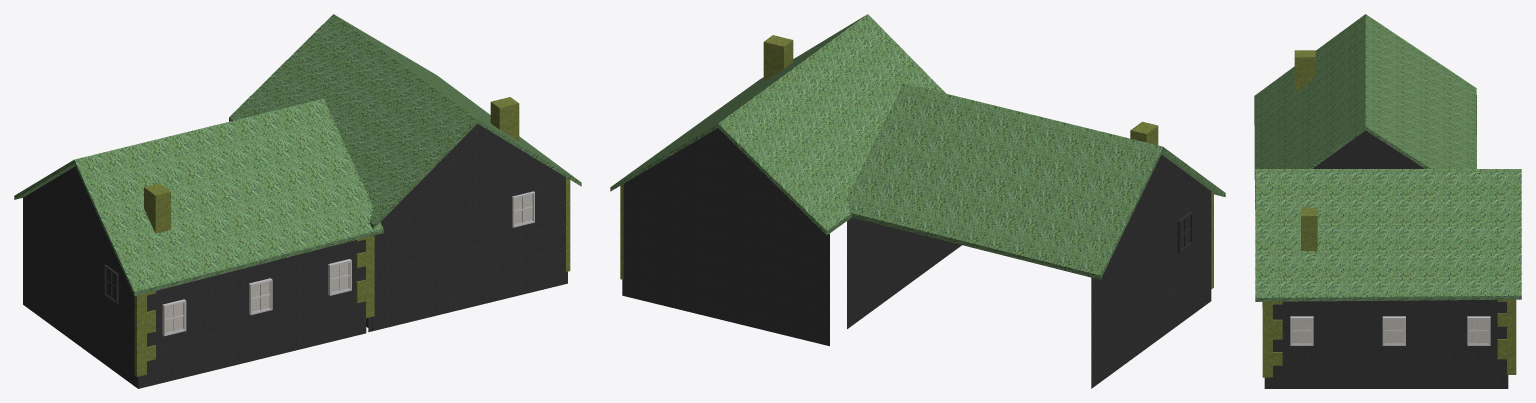
Rendered from BGHousse003.fbx.
3 views of the same model, side by side, from view 1: azimuth 30°, elevation 25°; view 2: azimuth 150°, elevation 25°; view 3: azimuth 270°, elevation 25° (orthographic). The views are drawn at different scales.
Visible parts, largest first — view 1: BGHousse003; view 2: BGHousse003; view 3: BGHousse003.
Part boxes in pixels (box(x1,y1,x2,y2)): BGHousse003: box(14, 14, 581, 388); BGHousse003: box(610, 14, 1225, 388); BGHousse003: box(1254, 14, 1521, 388).
Bounding box in the file's own units: 2420 × 988 × 1353.
